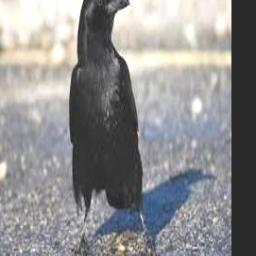Crow: (70, 0, 149, 255)
